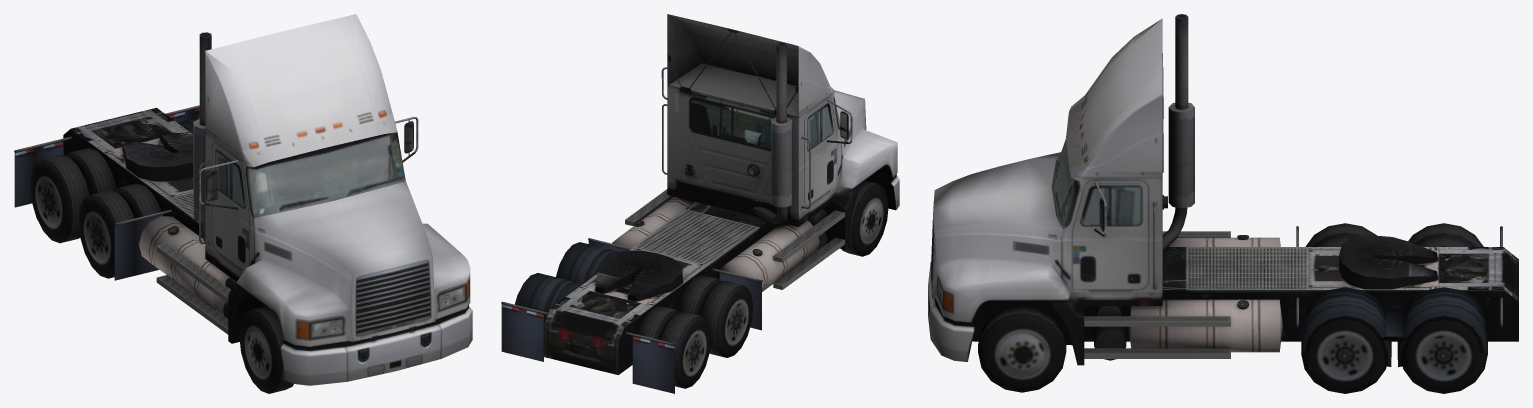
Rendered from truck.glb.
The picture shows the model from 3 angles, left to right: view 1: azimuth 30°, elevation 25°; view 2: azimuth 150°, elevation 25°; view 3: azimuth 270°, elevation 25°; orthographic projection. The views are drawn at different scales.
Visible parts, largest first — view 1: truck; view 2: truck; view 3: truck.
Boxes of the visible parts, x1,y1,x2,y2 form: truck: [14, 14, 472, 393]; truck: [501, 14, 899, 393]; truck: [928, 14, 1518, 393].
Bounding box in the file's own units: 4.01 × 5.12 × 9.17.
1 material, 1 textured.
